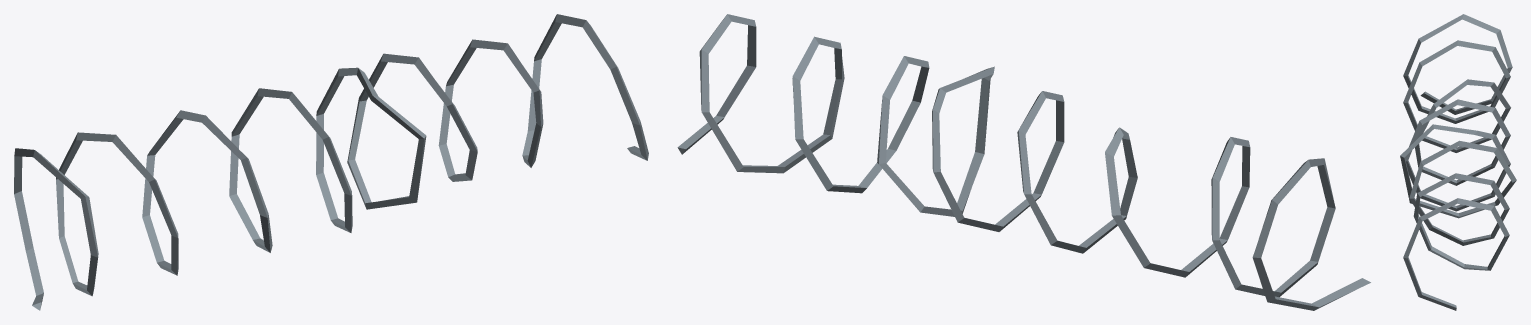
File: chainlink_fence.glb
The picture shows the model from 3 angles, left to right: view 1: azimuth 30°, elevation 25°; view 2: azimuth 150°, elevation 25°; view 3: azimuth 270°, elevation 25°; orthographic projection. The views are drawn at different scales.
Visible parts, largest first — view 1: SM_Bld_Fence_Wire_01; view 2: SM_Bld_Fence_Wire_01; view 3: SM_Bld_Fence_Wire_01.
Part boxes in pixels (box(x1,y1,x2,y2)): SM_Bld_Fence_Wire_01: box(14, 14, 648, 310); SM_Bld_Fence_Wire_01: box(677, 14, 1370, 310); SM_Bld_Fence_Wire_01: box(1400, 14, 1516, 310).
Bounding box in the file's own units: 3.42 × 0.7746 × 0.8061.
Materials: 1 (1 with a texture image).
